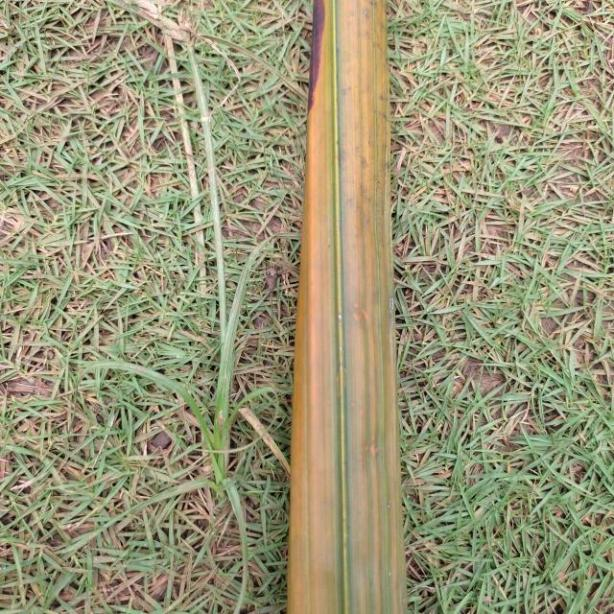Megnesium: (283, 0, 403, 614)
